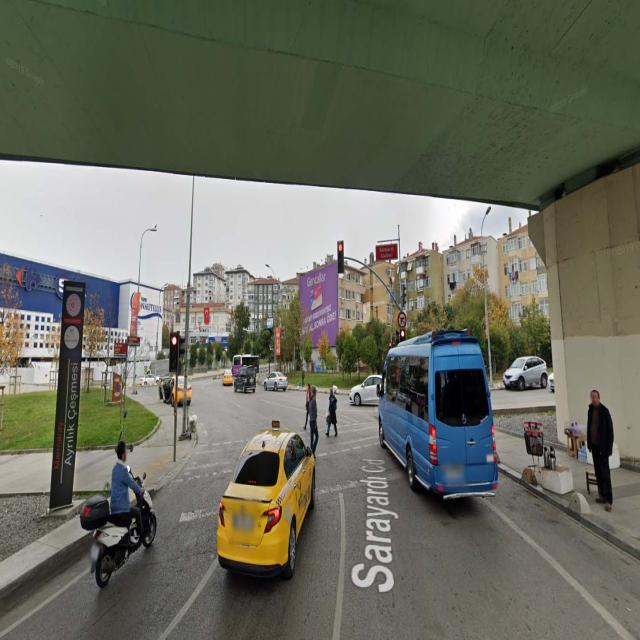kirmizi: (171, 331, 179, 371), (338, 240, 344, 275)
sagadonulmez: (398, 310, 406, 328)
